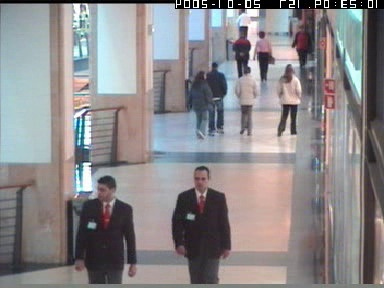person: (171, 165, 231, 285), (76, 175, 137, 285), (185, 71, 215, 138), (275, 63, 300, 136), (204, 64, 228, 135), (234, 67, 259, 134), (254, 31, 274, 81), (232, 31, 250, 80), (291, 23, 311, 67), (235, 9, 252, 39)
